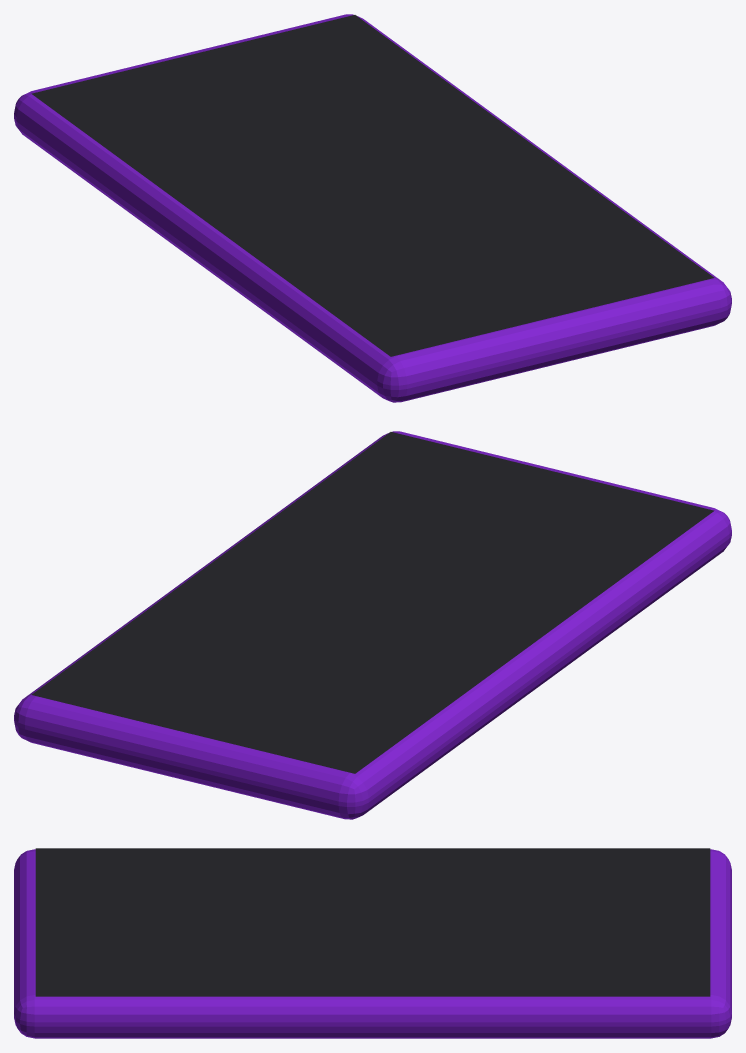
Rendered from tecno-spark-model-450-flagship-2026.glb.
3 renders of one model, top to bottom at view 1: azimuth 30°, elevation 25°; view 2: azimuth 150°, elevation 25°; view 3: azimuth 270°, elevation 25°, orthographic. The views are drawn at different scales.
Visible parts, largest first — view 1: Phone_Screen, Phone_Body; view 2: Phone_Screen, Phone_Body; view 3: Phone_Screen, Phone_Body.
Part boxes in pixels (left/top/right/bottom): Phone_Screen: left=31, top=15, right=714, bottom=356; Phone_Body: left=14, top=14, right=731, bottom=402; Phone_Screen: left=31, top=432, right=714, bottom=773; Phone_Body: left=14, top=431, right=731, bottom=819; Phone_Screen: left=35, top=848, right=710, bottom=996; Phone_Body: left=14, top=849, right=731, bottom=1038.
Size of the model in its own units: 0.0797 by 0.0097 by 0.15.
